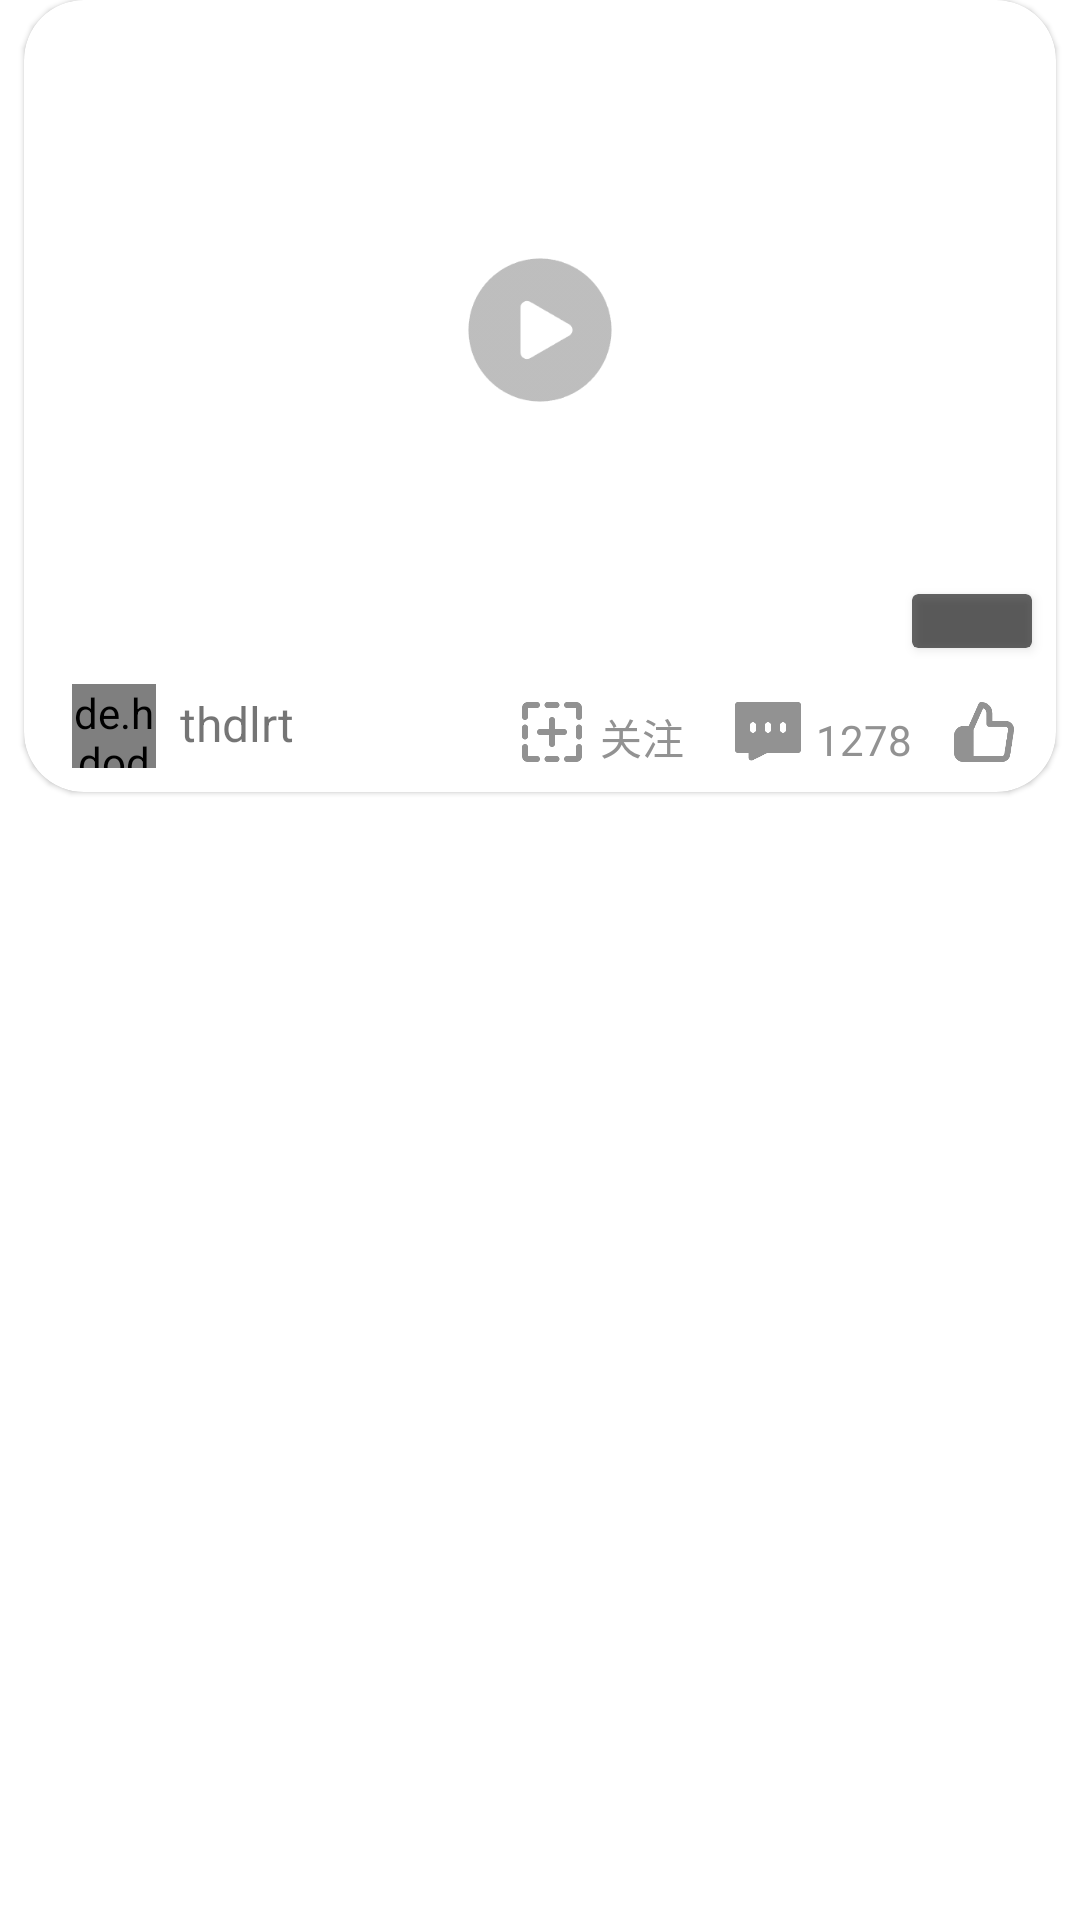

Locate icon controls on the screen. Image size 1080px×1920px, boxes as (x1, y1, x2, y2).
comment: (735, 702, 801, 761)
play: (468, 258, 612, 402)
thumb: (954, 702, 1014, 762)
